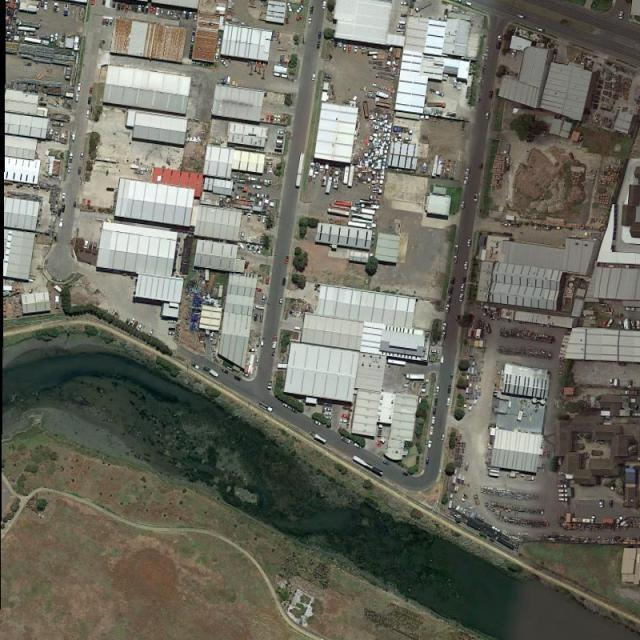vehicle: (309, 430, 327, 444), (259, 402, 274, 414), (406, 374, 425, 380), (326, 178, 333, 194), (127, 317, 135, 328), (296, 3, 304, 14), (341, 437, 351, 445), (267, 379, 273, 392), (607, 317, 614, 328), (221, 59, 229, 68), (68, 154, 74, 166), (615, 516, 623, 525), (131, 321, 138, 331), (286, 2, 293, 12), (168, 7, 174, 18), (151, 5, 157, 16), (444, 303, 450, 314), (58, 218, 64, 229), (434, 386, 440, 397), (276, 114, 282, 125), (295, 14, 303, 22), (354, 442, 362, 450), (510, 49, 517, 58), (171, 9, 178, 18), (147, 328, 154, 337), (313, 419, 322, 426), (535, 26, 545, 32), (460, 200, 466, 210), (466, 238, 472, 248), (454, 244, 460, 254), (61, 192, 67, 202), (599, 498, 605, 508), (253, 312, 259, 322), (83, 240, 89, 250), (382, 459, 390, 466), (234, 375, 242, 382), (221, 367, 229, 374), (290, 406, 298, 413), (282, 402, 290, 409), (461, 282, 466, 293), (273, 114, 278, 125), (322, 407, 333, 412), (246, 213, 251, 224), (137, 322, 143, 331), (124, 317, 130, 326), (74, 94, 80, 103), (256, 214, 262, 223), (516, 14, 526, 19), (489, 90, 494, 100), (459, 292, 464, 302), (185, 10, 190, 20), (177, 10, 182, 20), (130, 2, 135, 12), (77, 166, 82, 176), (260, 337, 265, 347), (255, 356, 260, 366), (464, 1, 474, 6), (316, 40, 321, 50), (309, 4, 314, 14), (339, 419, 349, 424), (323, 415, 333, 420), (265, 276, 270, 286), (285, 254, 290, 264), (631, 319, 636, 329), (252, 185, 262, 190), (590, 514, 595, 524), (442, 322, 448, 330), (307, 18, 313, 26), (242, 372, 250, 378), (453, 255, 458, 264), (463, 261, 468, 270), (448, 286, 453, 295), (450, 276, 455, 285), (189, 10, 194, 19), (160, 6, 165, 15), (155, 6, 160, 15), (148, 5, 153, 14), (144, 5, 149, 14), (446, 398, 451, 407), (432, 407, 437, 416), (277, 130, 286, 135), (397, 25, 406, 30), (354, 45, 359, 54), (322, 1, 327, 10), (278, 298, 283, 307), (619, 10, 623, 21), (182, 10, 186, 21), (125, 2, 129, 13), (86, 108, 90, 119), (62, 202, 66, 213), (77, 82, 81, 93), (429, 349, 440, 353), (558, 498, 569, 502), (498, 31, 502, 41), (465, 169, 470, 177), (166, 7, 170, 17), (214, 54, 219, 62), (431, 416, 436, 424), (558, 489, 568, 493), (430, 426, 434, 436), (425, 458, 430, 466), (400, 1, 410, 5), (324, 403, 334, 407), (342, 406, 352, 410), (340, 414, 350, 418), (276, 144, 284, 149), (610, 377, 614, 387), (453, 79, 457, 89), (260, 194, 270, 198), (486, 111, 490, 120), (474, 193, 478, 202), (447, 295, 451, 304), (55, 33, 59, 42), (50, 34, 54, 43), (44, 2, 48, 11), (62, 33, 66, 42), (134, 2, 138, 11), (80, 151, 84, 160), (67, 166, 71, 175), (89, 242, 93, 251), (168, 327, 177, 331), (38, 102, 47, 106), (442, 330, 446, 339), (448, 385, 452, 394), (558, 484, 567, 488), (429, 440, 433, 449), (88, 97, 92, 106), (348, 44, 352, 53), (342, 44, 346, 53), (318, 30, 322, 39), (262, 294, 266, 303), (458, 81, 462, 90), (312, 72, 316, 81), (168, 331, 175, 336), (89, 87, 94, 94), (441, 354, 444, 365), (463, 178, 467, 186), (218, 38, 222, 46), (110, 18, 114, 26), (105, 18, 109, 26), (102, 18, 106, 26), (138, 4, 142, 12), (94, 243, 98, 251), (106, 188, 114, 192), (434, 398, 438, 406), (270, 115, 274, 123), (266, 114, 270, 122), (276, 136, 284, 140), (276, 140, 284, 144), (282, 278, 286, 286), (58, 208, 61, 218), (323, 412, 333, 415), (637, 320, 640, 330), (40, 1, 44, 8), (118, 1, 121, 10), (122, 1, 125, 10), (142, 4, 145, 13), (442, 432, 445, 441), (559, 494, 568, 497), (286, 16, 289, 25), (241, 230, 244, 239), (102, 1, 106, 7), (274, 150, 282, 153), (632, 414, 640, 417), (405, 138, 413, 141), (113, 1, 115, 10), (301, 1, 304, 6), (91, 1, 94, 5), (454, 1, 463, 2)
